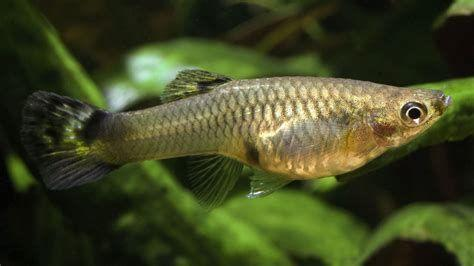Mosquito Fish: (24, 66, 451, 209)
